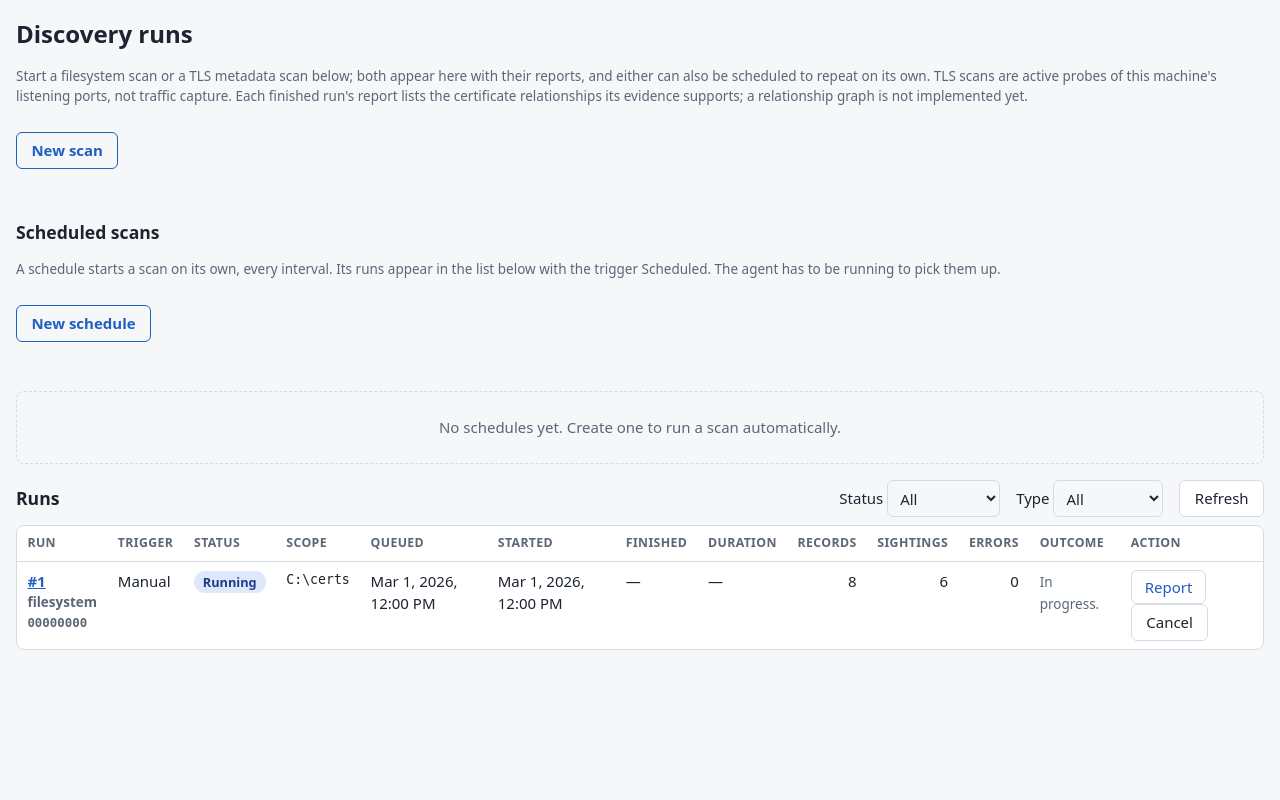
Scenario: cancelling › explains a refused cancel and re-reads the run
Expected: the table is shown, top-left (17, 526), bottom-right (1263, 649)
Click the button with aria-label "Cancel run 1": point(1170, 622) top-left (1131, 604), bottom-right (1208, 641)
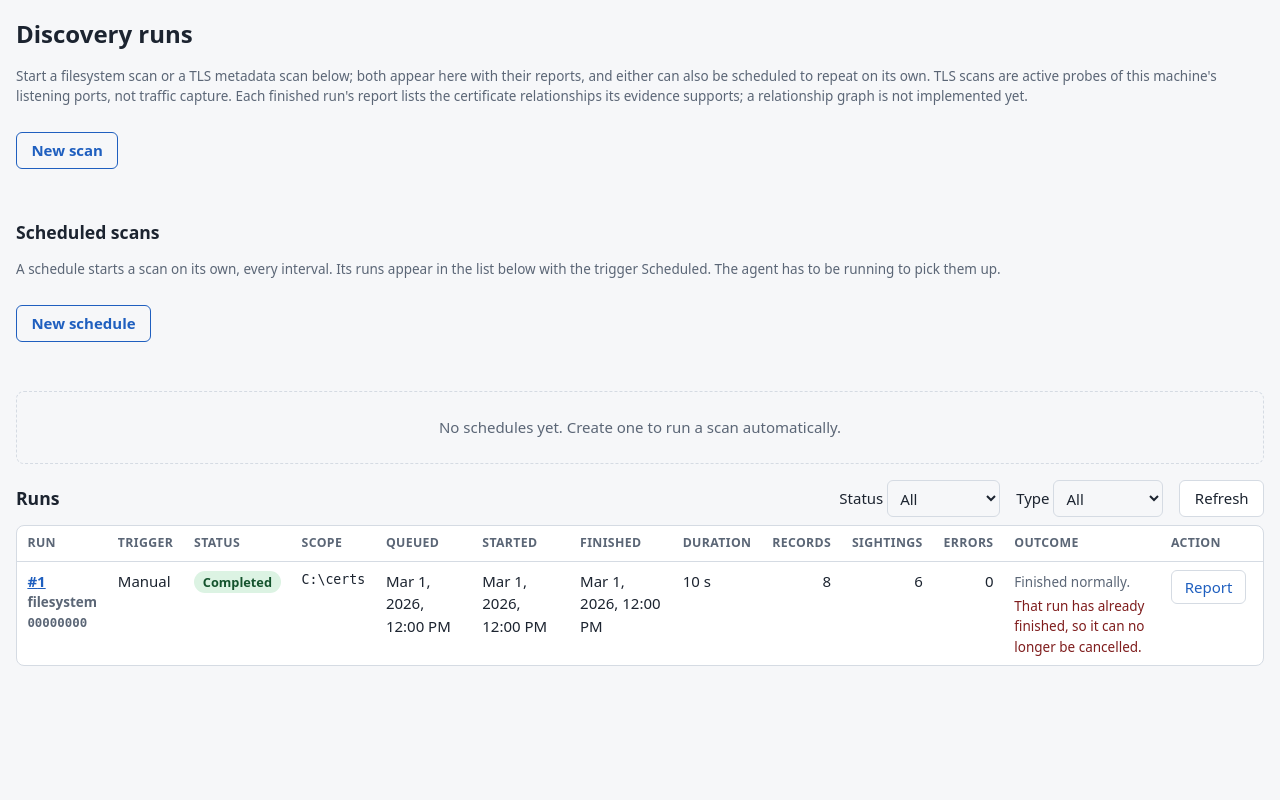
Expected: the text "That run has already finished, so it can no longer be cancelled." is shown, top-left (1014, 596), bottom-right (1150, 657)
Expected: the text "Completed" is shown, top-left (194, 571), bottom-right (281, 593)
